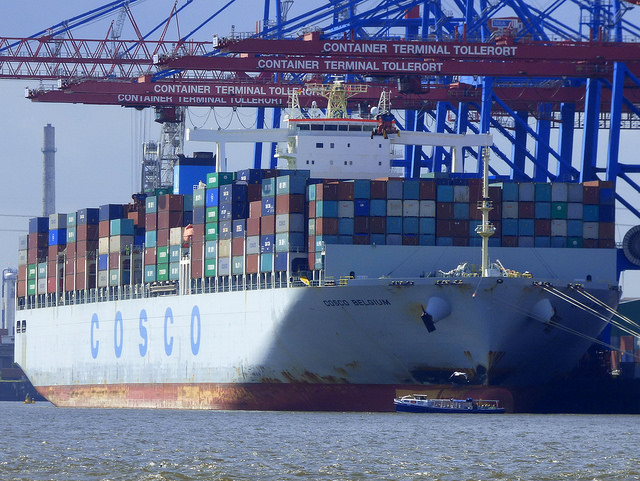container_ship: (15, 79, 618, 410)
